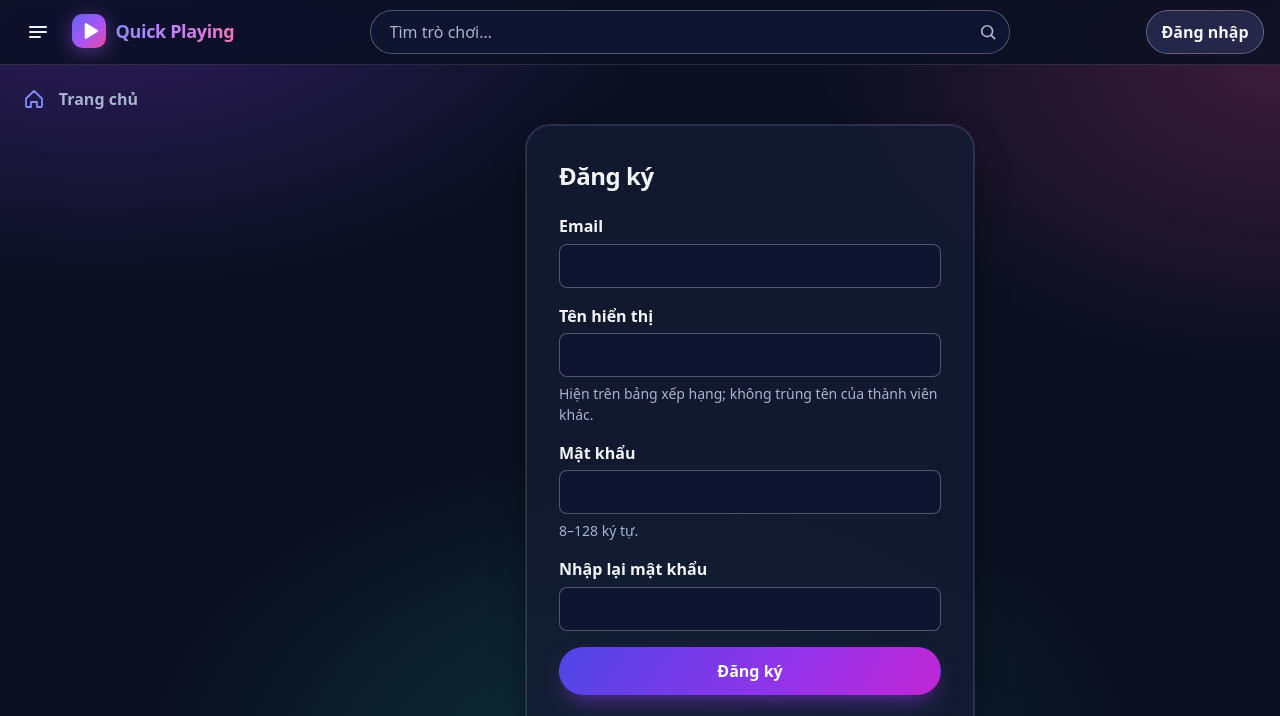
Test: AC29 register page › 409 EMAIL_TAKEN shows the field error
In the field with test id "register-email": (750, 266) 559,244 -> 941,288, type "lan@example.com"
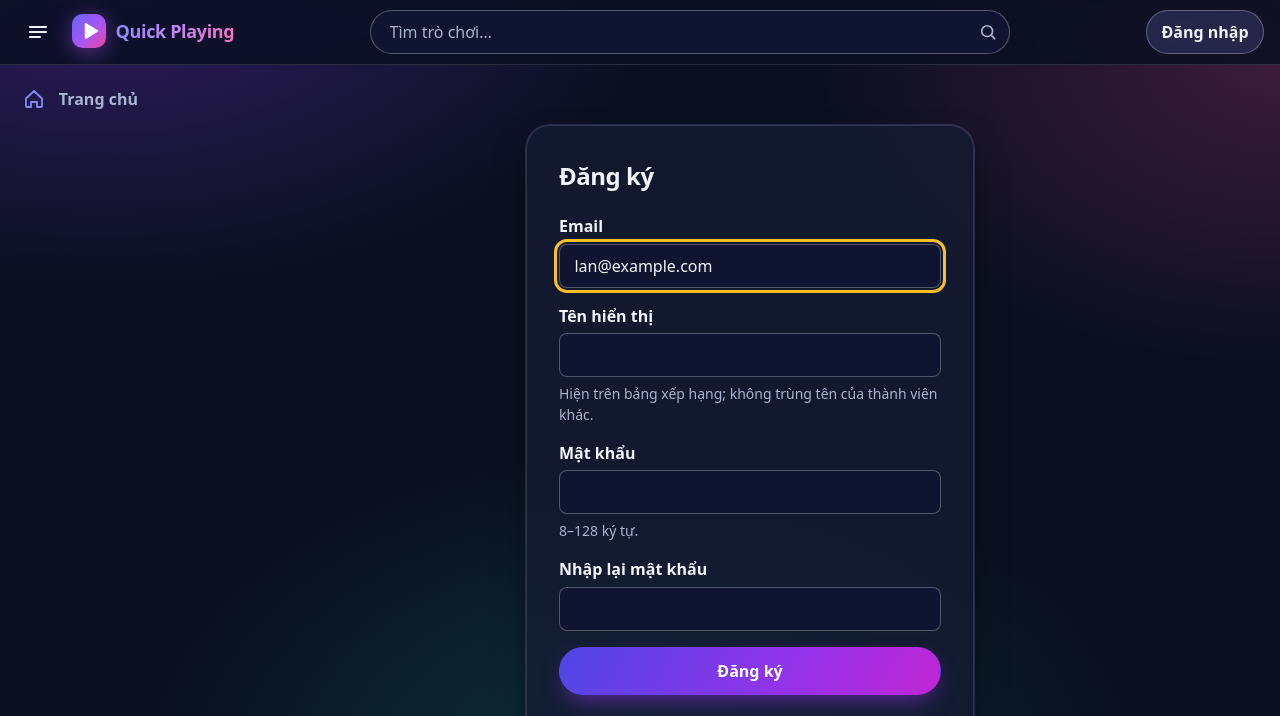
In the field with test id "register-display-name": (750, 355) 559,333 -> 941,377, type "Lan"
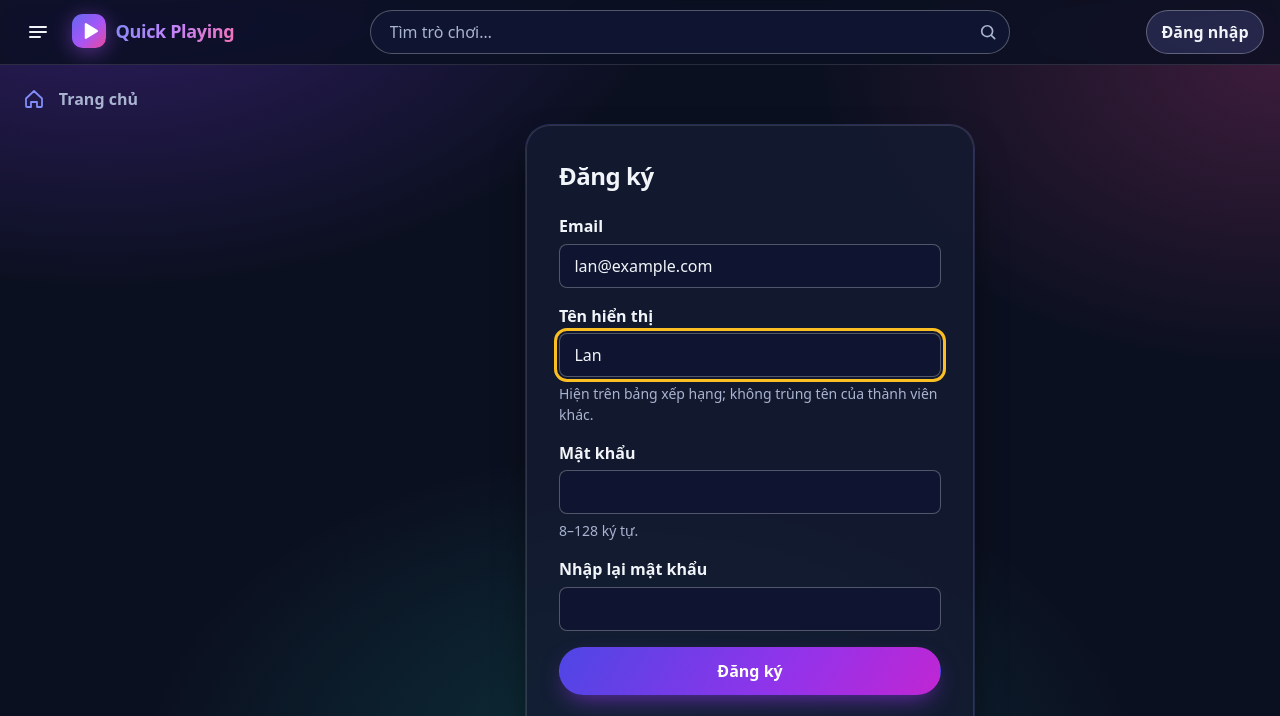
In the password field with test id "register-password": (750, 492) 559,470 -> 941,514, type "mat-khau-dai-9"
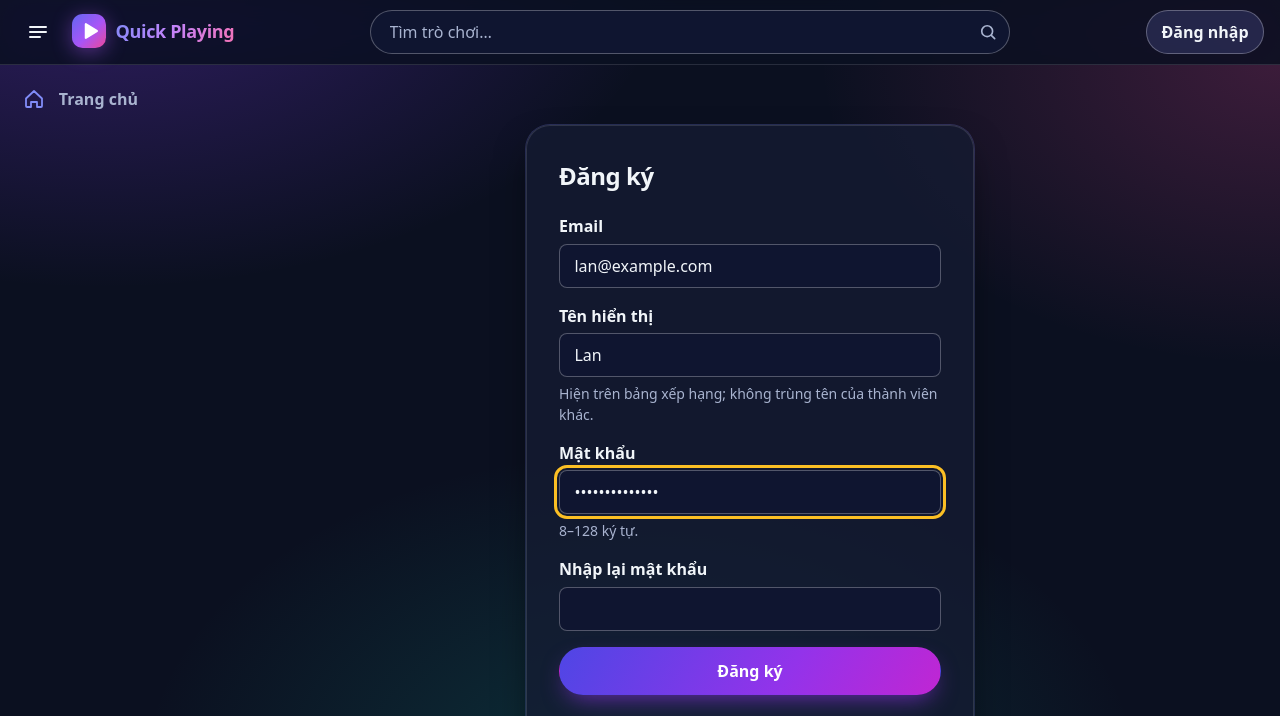
In the password field with test id "register-password-confirm": (750, 609) 559,587 -> 941,631, type "mat-khau-dai-9"
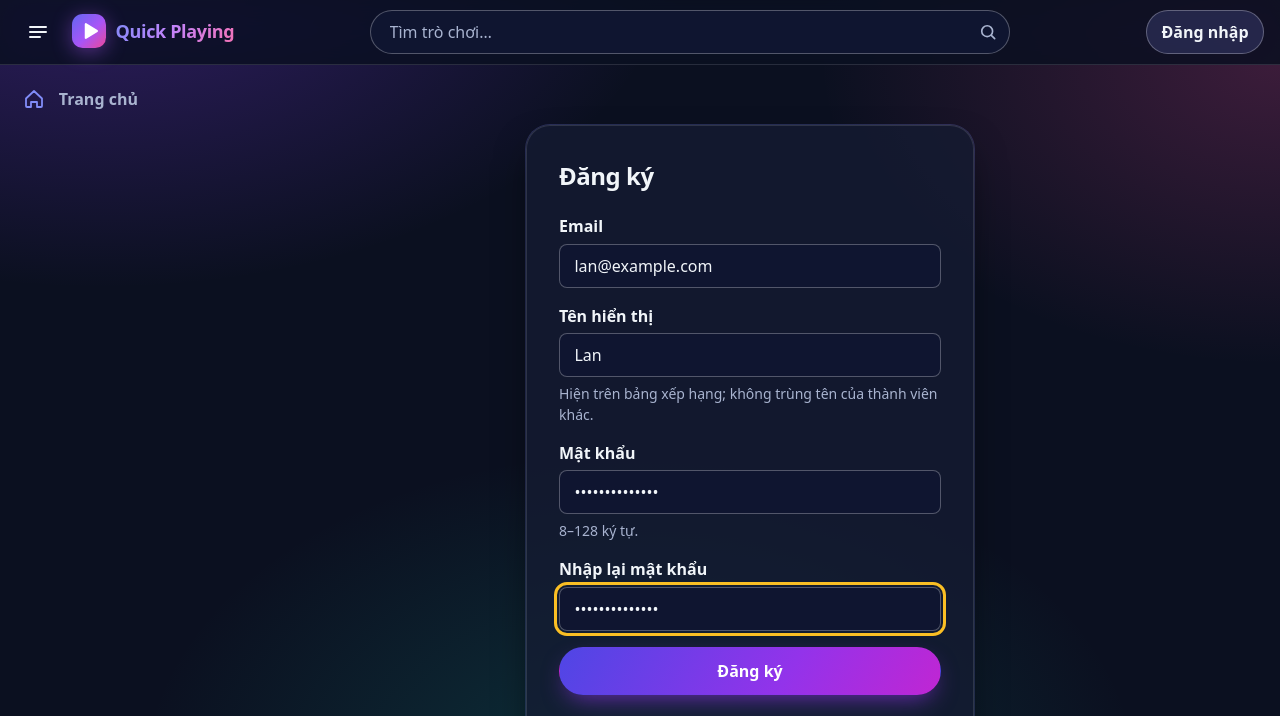
Click the button with test id "register-submit": (750, 671) 559,647 -> 941,695
(page scrolled)
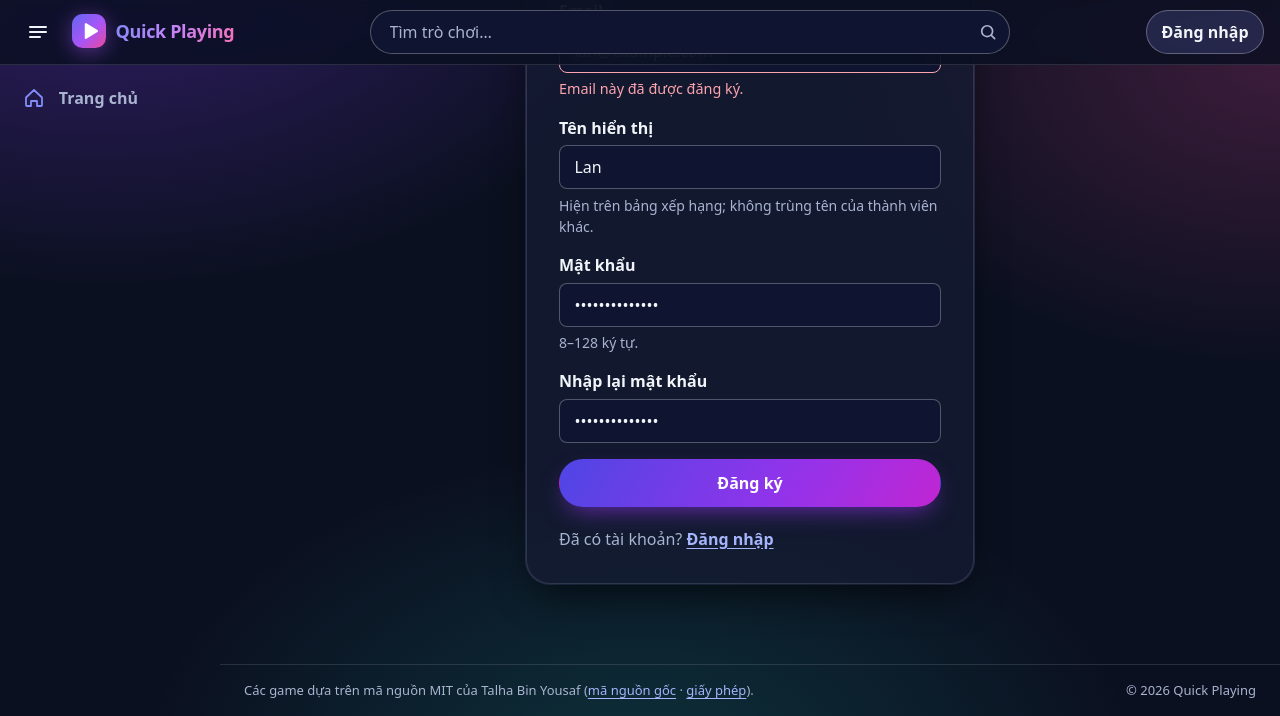
Expected: the button with test id "register-submit" is enabled, 559,459 -> 941,507
Expected: the message with test id "register-email-error" reads "Email này đã được đăng ký.", 559,79 -> 743,98
